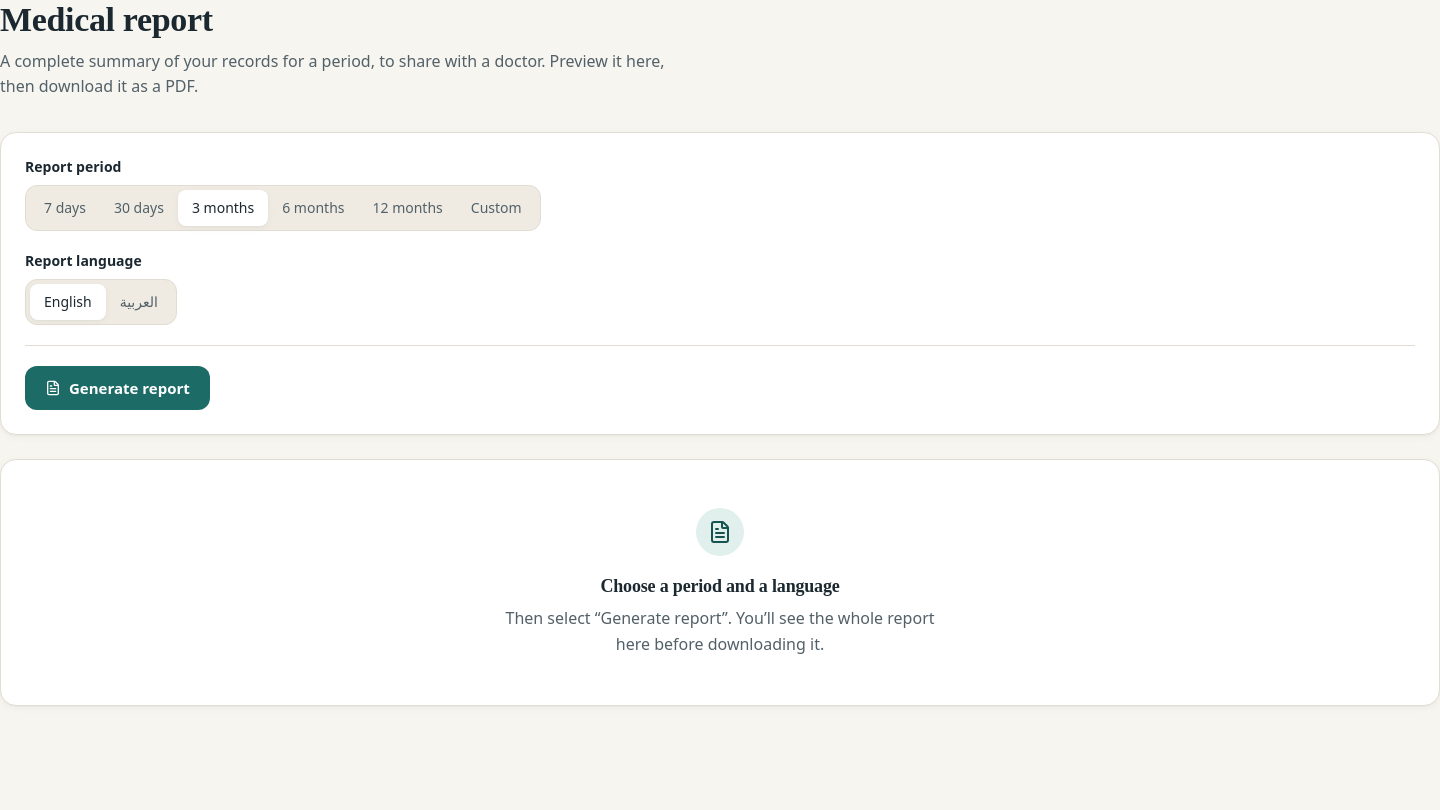
it: MedicalReportPage › warns when nothing was recorded in the period
Step 1. Click the button "Generate report" → (117, 388), box [25, 366, 210, 410]
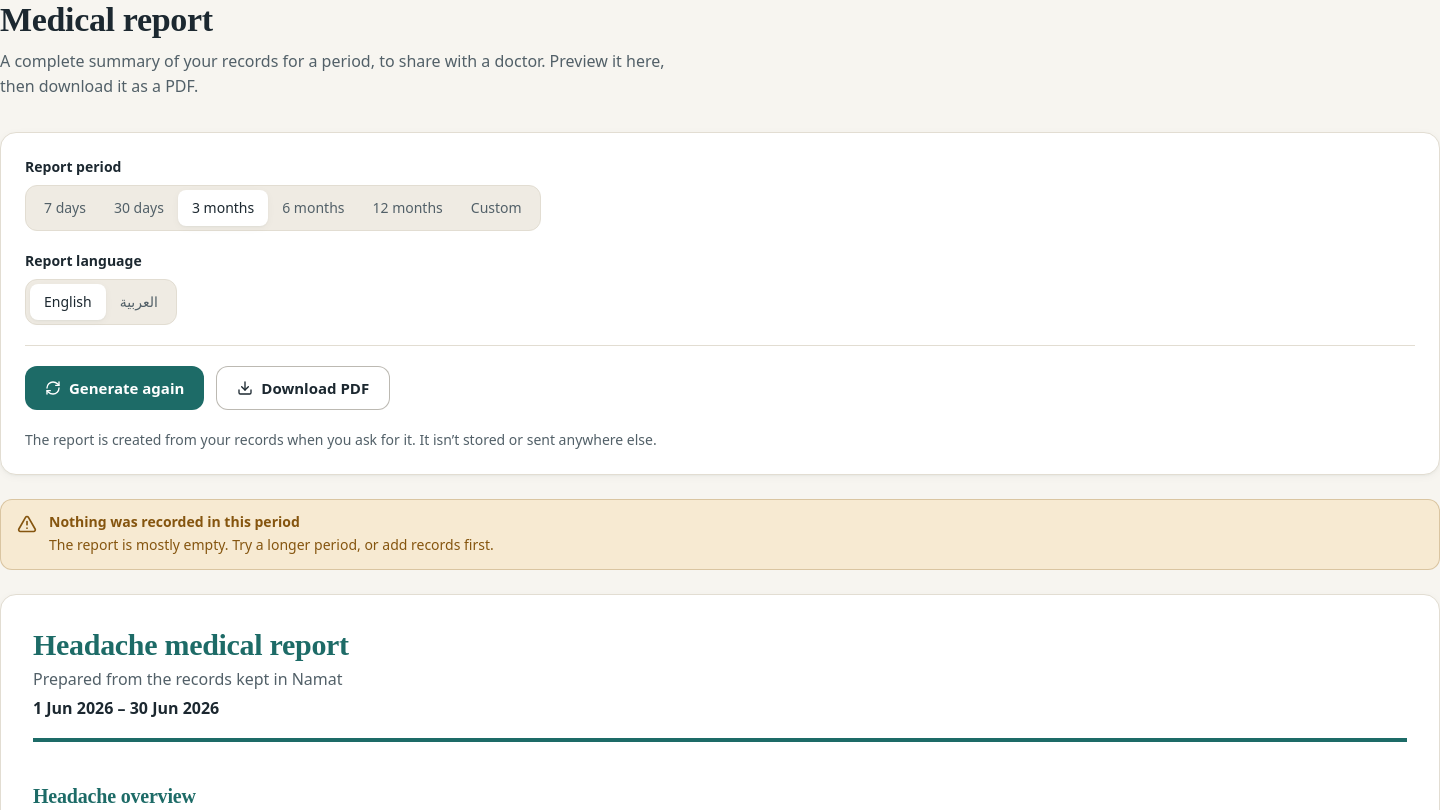
Expected: the text "Nothing was recorded in this period" is shown, [49, 512, 300, 531]
